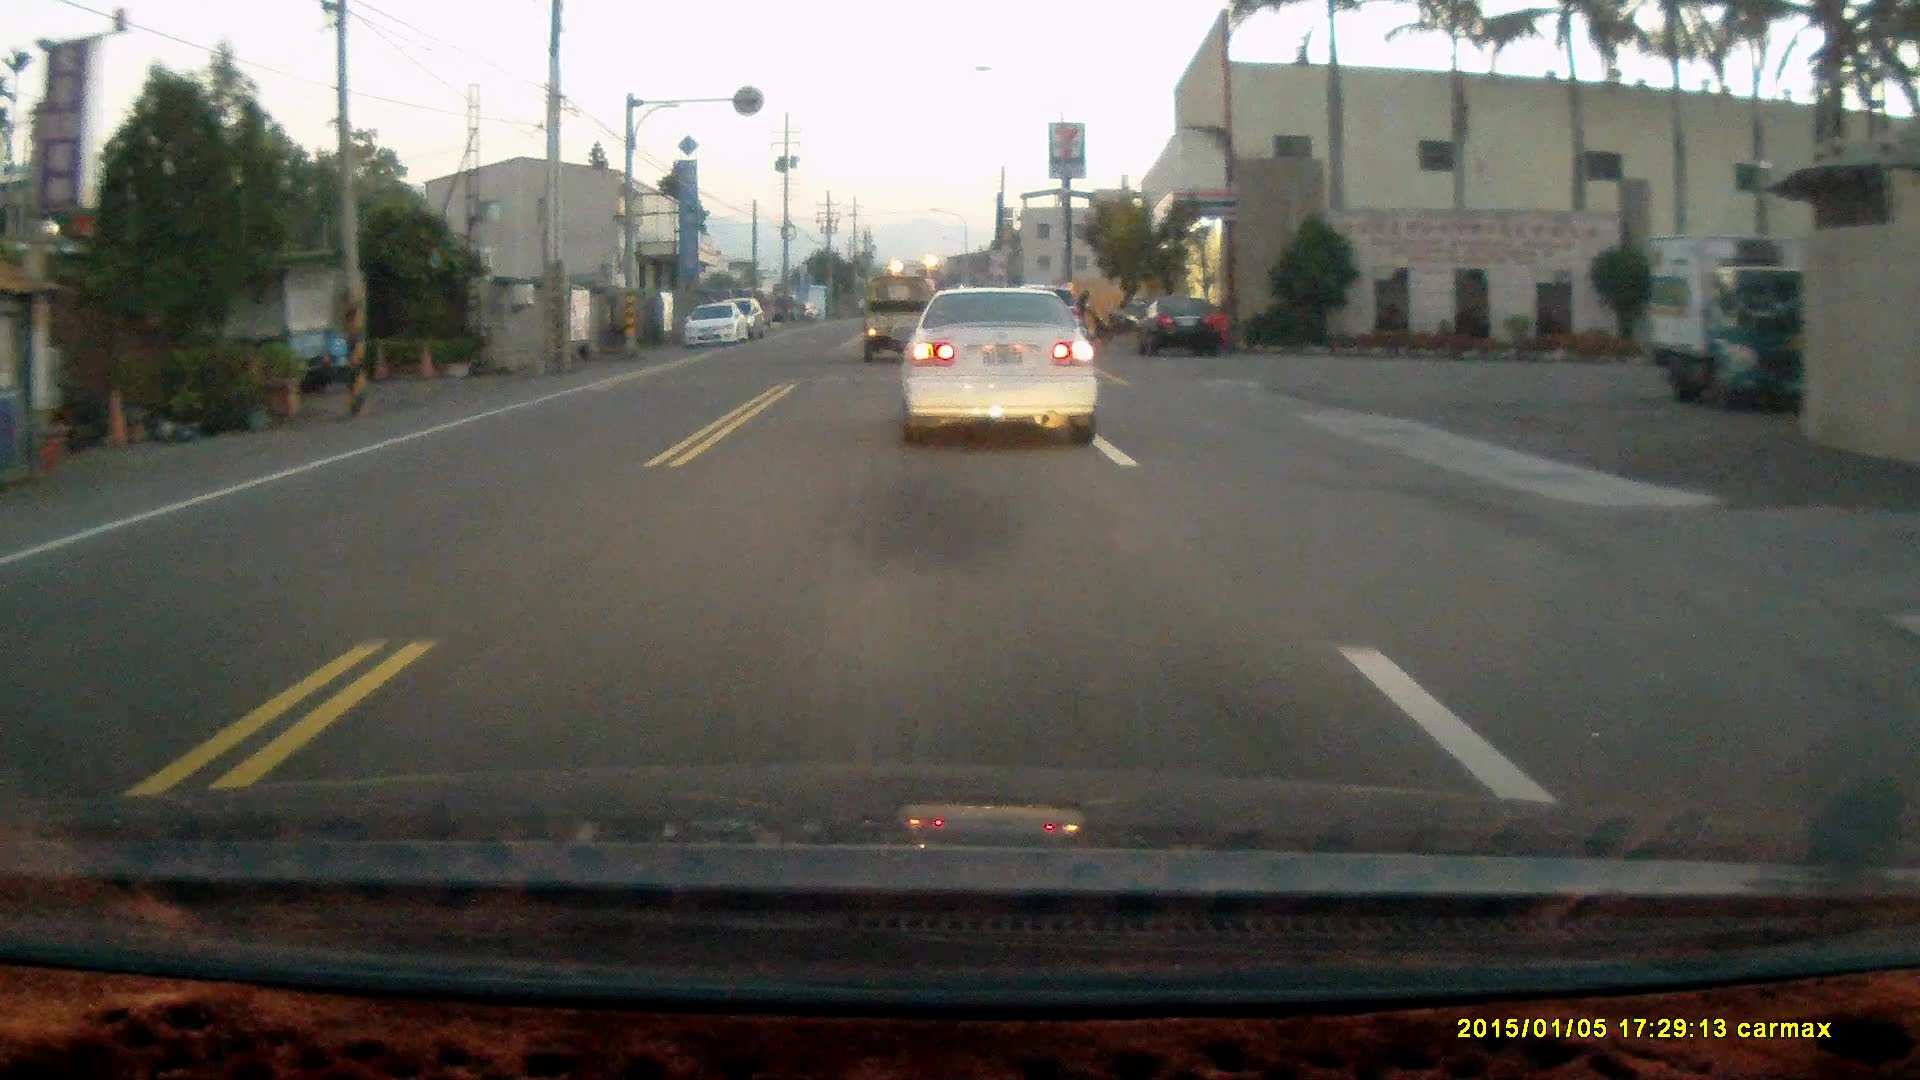rider: (1060, 288, 1112, 344)
vehicle: (901, 281, 1099, 450), (1647, 237, 1824, 413), (858, 275, 932, 361), (1128, 297, 1224, 360), (680, 301, 750, 349)
